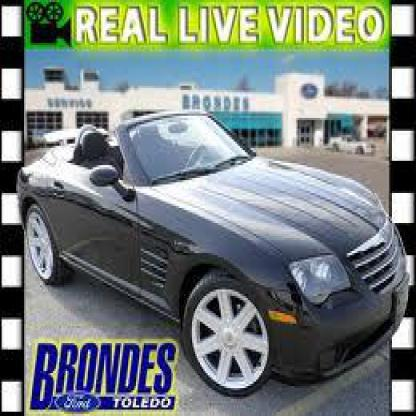Vehicle: (19, 111, 410, 399)
